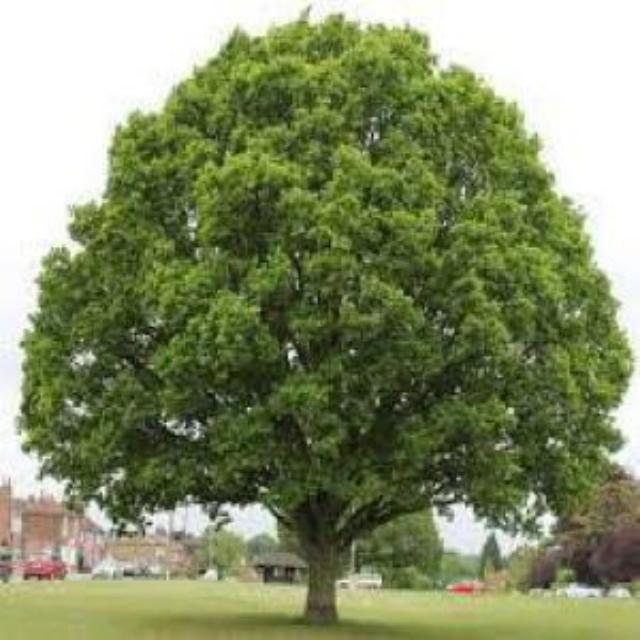tree: (17, 7, 629, 621)
